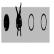correct: (3, 11, 10, 34)
no answer: (40, 9, 47, 34), (28, 10, 34, 35)
not correct: (15, 1, 22, 39)
